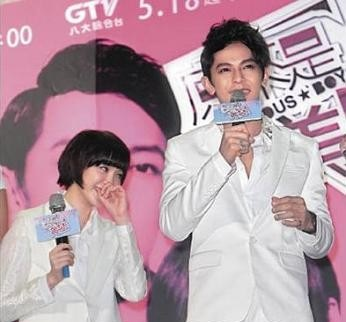face: (211, 44, 260, 105), (82, 157, 124, 207)
